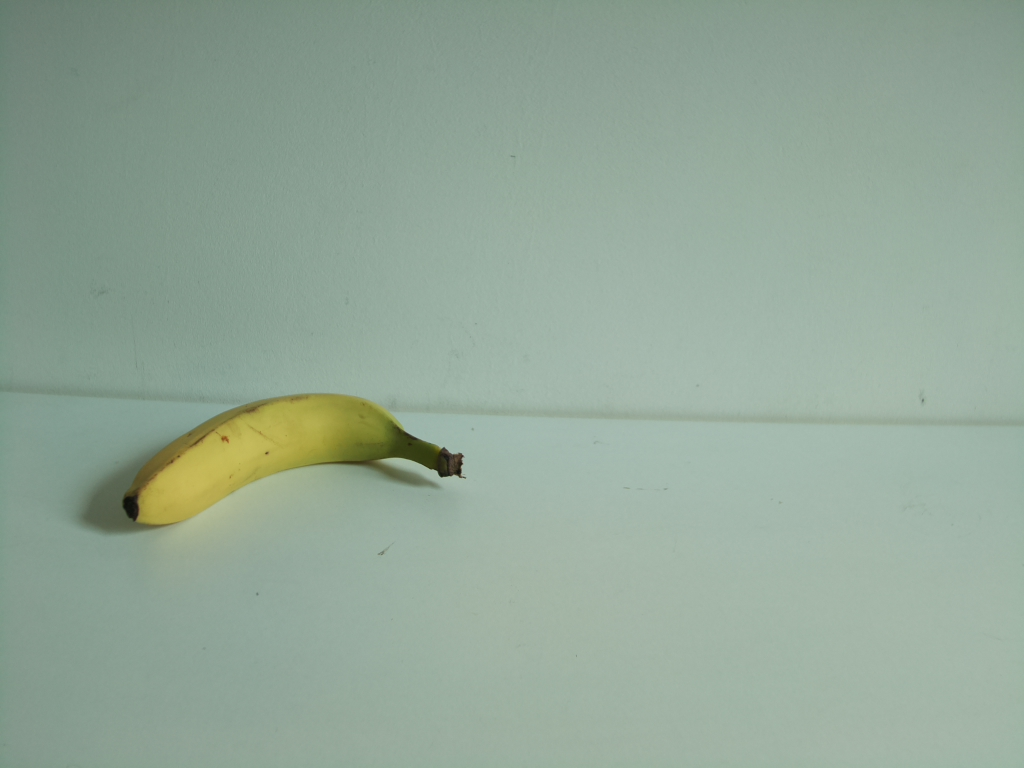banana: (122, 391, 466, 528)
